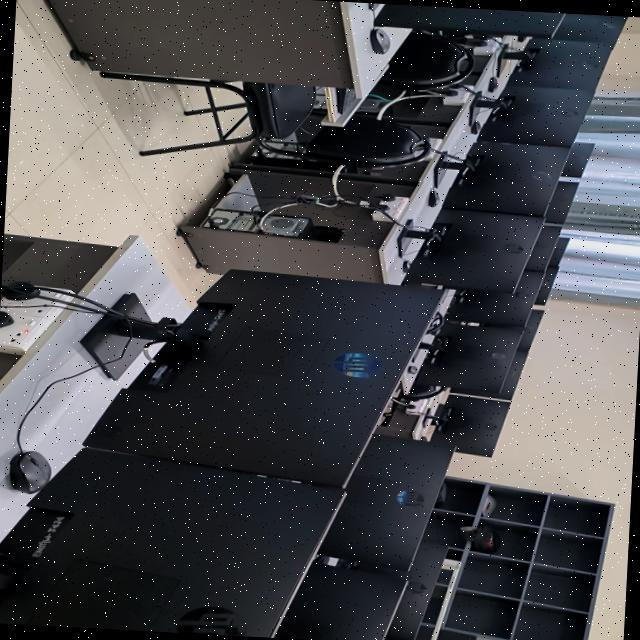Chair: (101, 72, 432, 168), (380, 31, 474, 90), (396, 384, 445, 402), (426, 311, 445, 334)
Cpu: (203, 207, 326, 241), (353, 98, 405, 118)
Keyboard: (337, 87, 356, 113)
Monitor: (81, 270, 443, 485), (0, 448, 345, 638), (320, 434, 454, 570), (399, 207, 544, 293), (274, 561, 406, 640), (436, 142, 570, 215), (357, 539, 448, 640), (417, 322, 524, 392), (473, 85, 592, 147), (376, 3, 566, 38), (502, 38, 610, 93), (448, 271, 544, 326), (432, 394, 510, 456), (458, 350, 527, 400), (553, 13, 628, 48), (526, 226, 560, 271), (546, 180, 579, 223), (518, 308, 545, 351), (562, 141, 594, 176), (535, 265, 558, 304), (548, 237, 570, 267)
Mouse: (10, 451, 52, 493), (371, 27, 391, 54), (429, 190, 440, 206), (488, 76, 499, 92), (471, 120, 481, 133), (408, 364, 419, 373), (403, 260, 411, 272), (421, 434, 430, 441)
